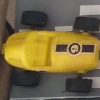amarillo: (2, 13, 99, 93)
